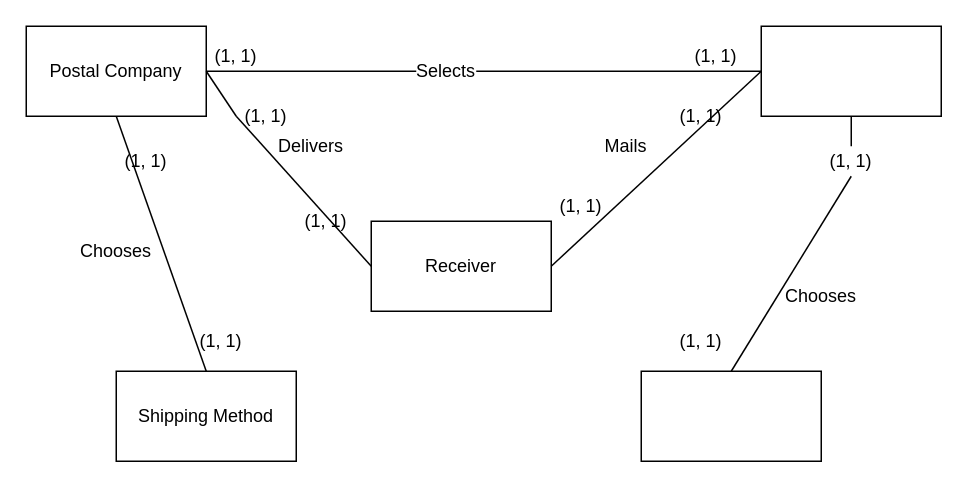
This 968x488 diagram has some shape labels left out. Here are the shapes that lost their labels. From the top down, the centre of each, then its label:
At point 850,70: "Sender".
At point 730,415: "Package Type".
